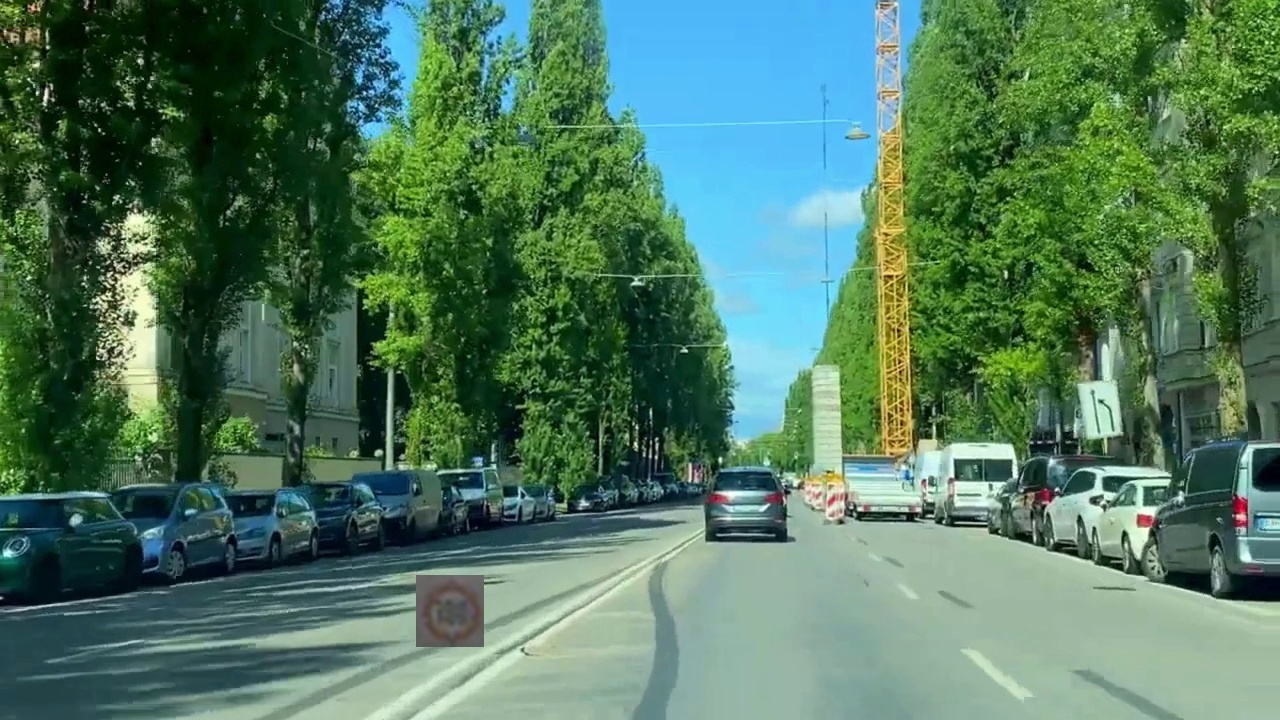Speed 100: (416, 575, 484, 647)
